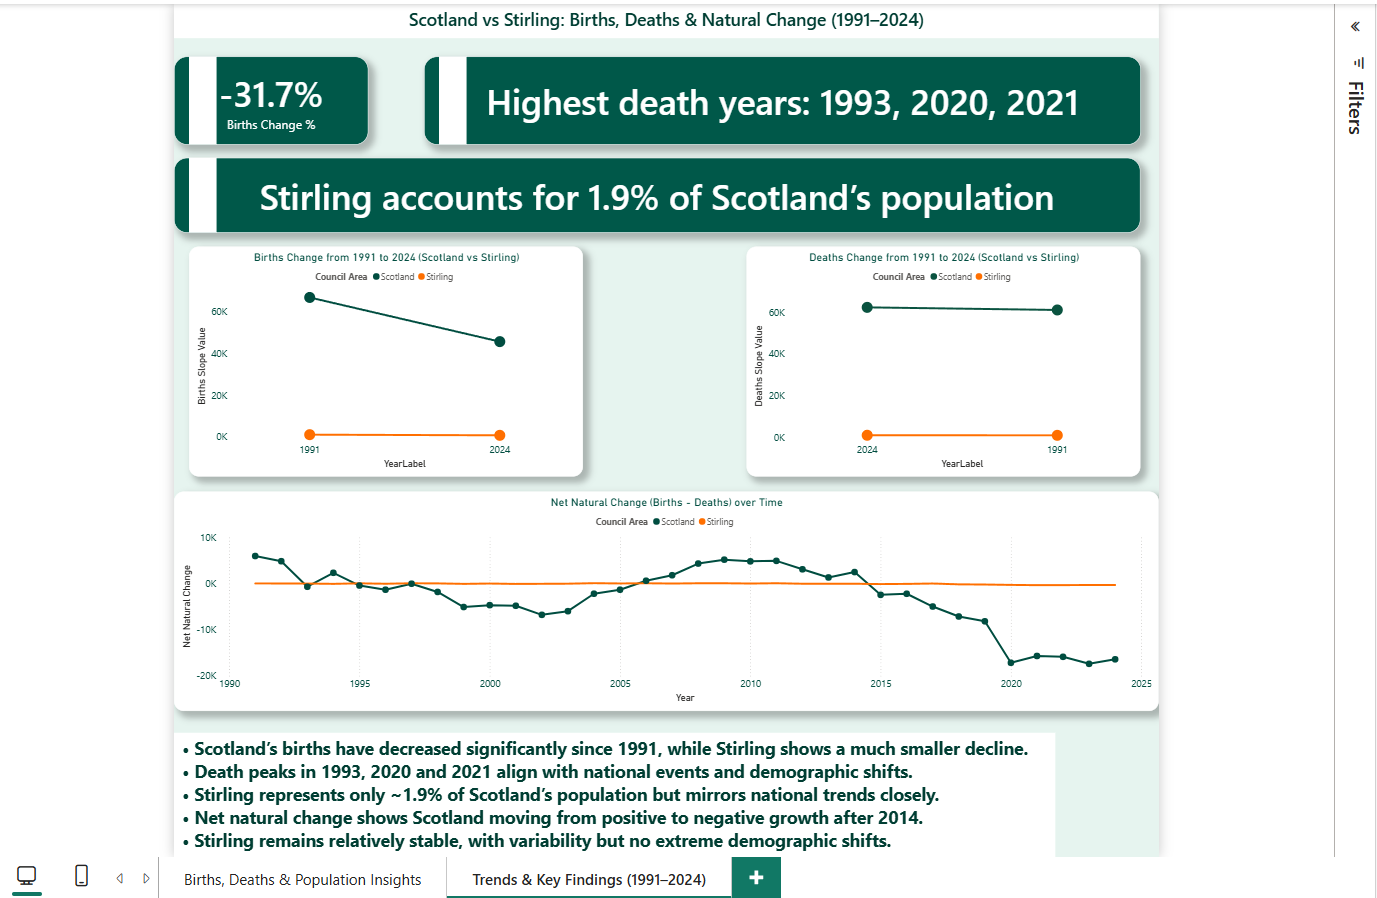

What the dashboard file says about the page in this screenshot:
{"tool":"powerbi","page":{"name":"Trends & Key Findings (1991–2024)","canvas":[1500,1300],"ordinal":1},"visuals":[{"type":"lineChart","title":"Births Change from 1991 to 2024 (Scotland vs Stirling)","fields":{"Category":["SlopeYears.YearLabel"],"Series":["Births.Council Area"],"Y":["SlopeYears.Births Slope Value"]},"box":[22.4,369.2,600,350],"z":0},{"type":"lineChart","title":"Deaths Change from 1991 to 2024 (Scotland vs Stirling)","fields":{"Category":["SlopeYears.YearLabel"],"Y":["SlopeYears.Deaths Slope Value"],"Series":["Deaths.Council Area"]},"box":[872.4,369.2,600,350],"z":1000},{"type":"lineChart","title":"Net Natural Change (Births − Deaths) over Time","fields":{"Category":["DimYear.Year"],"Y":["Births.Net Natural Change"],"Series":["DimCouncil.Council Area"]},"box":[0,742,1500,334],"z":2000},{"type":"textbox","box":[0,0,1500,52],"z":3000},{"type":"card","fields":{"Values":["Births.Births Change %"]},"box":[0,80,296,134],"z":4000},{"type":"card","title":"Death Peaks (Worst Years)","fields":{"Values":["Deaths.Death Peaks Text"]},"box":[380,80,1092,134],"z":5000},{"type":"card","fields":{"Values":["Population.Stirling Pop Share Text"]},"box":[0,234,1472,114],"z":6000},{"type":"textbox","box":[0,1110,1342,190],"z":7000},{"type":"shape","box":[22,80,42,134],"z":7001},{"type":"shape","box":[22,234,42,114],"z":7002},{"type":"shape","box":[404,80,42,134],"z":7003}]}

Visuals, with their boxes on the page's 1500x1300 design canvas (x1, y1, x2, y2). These are canvas units, not pixel positions in the 1377x898 screenshot, which may show the page scaled, cropped or inside an application window:
"Births Change from 1991 to 2024 (Scotland vs Stirling)" lineChart: 22,369,622,719
"Deaths Change from 1991 to 2024 (Scotland vs Stirling)" lineChart: 872,369,1472,719
"Net Natural Change (Births − Deaths) over Time" lineChart: 0,742,1500,1076
textbox: 0,0,1500,52
card - Births.Births Change %: 0,80,296,214
"Death Peaks (Worst Years)" card: 380,80,1472,214
card - Population.Stirling Pop Share Text: 0,234,1472,348
textbox: 0,1110,1342,1300
shape: 22,80,64,214
shape: 22,234,64,348
shape: 404,80,446,214
